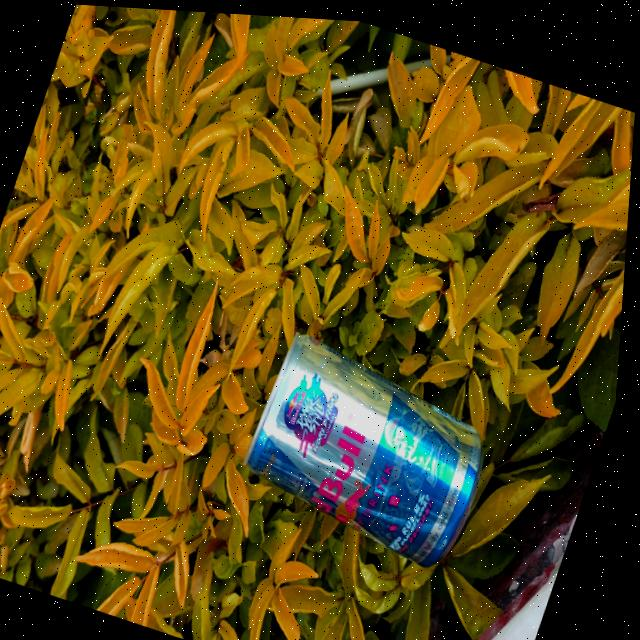Redbull DanceYourStyle: (236, 323, 513, 570)
